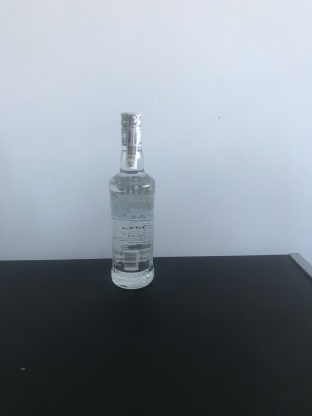nakretka: (118, 108, 145, 148)
